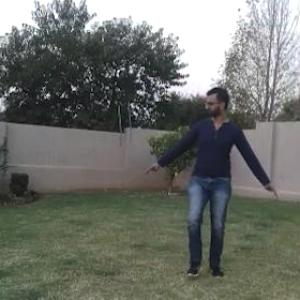land: (133, 82, 295, 294)
